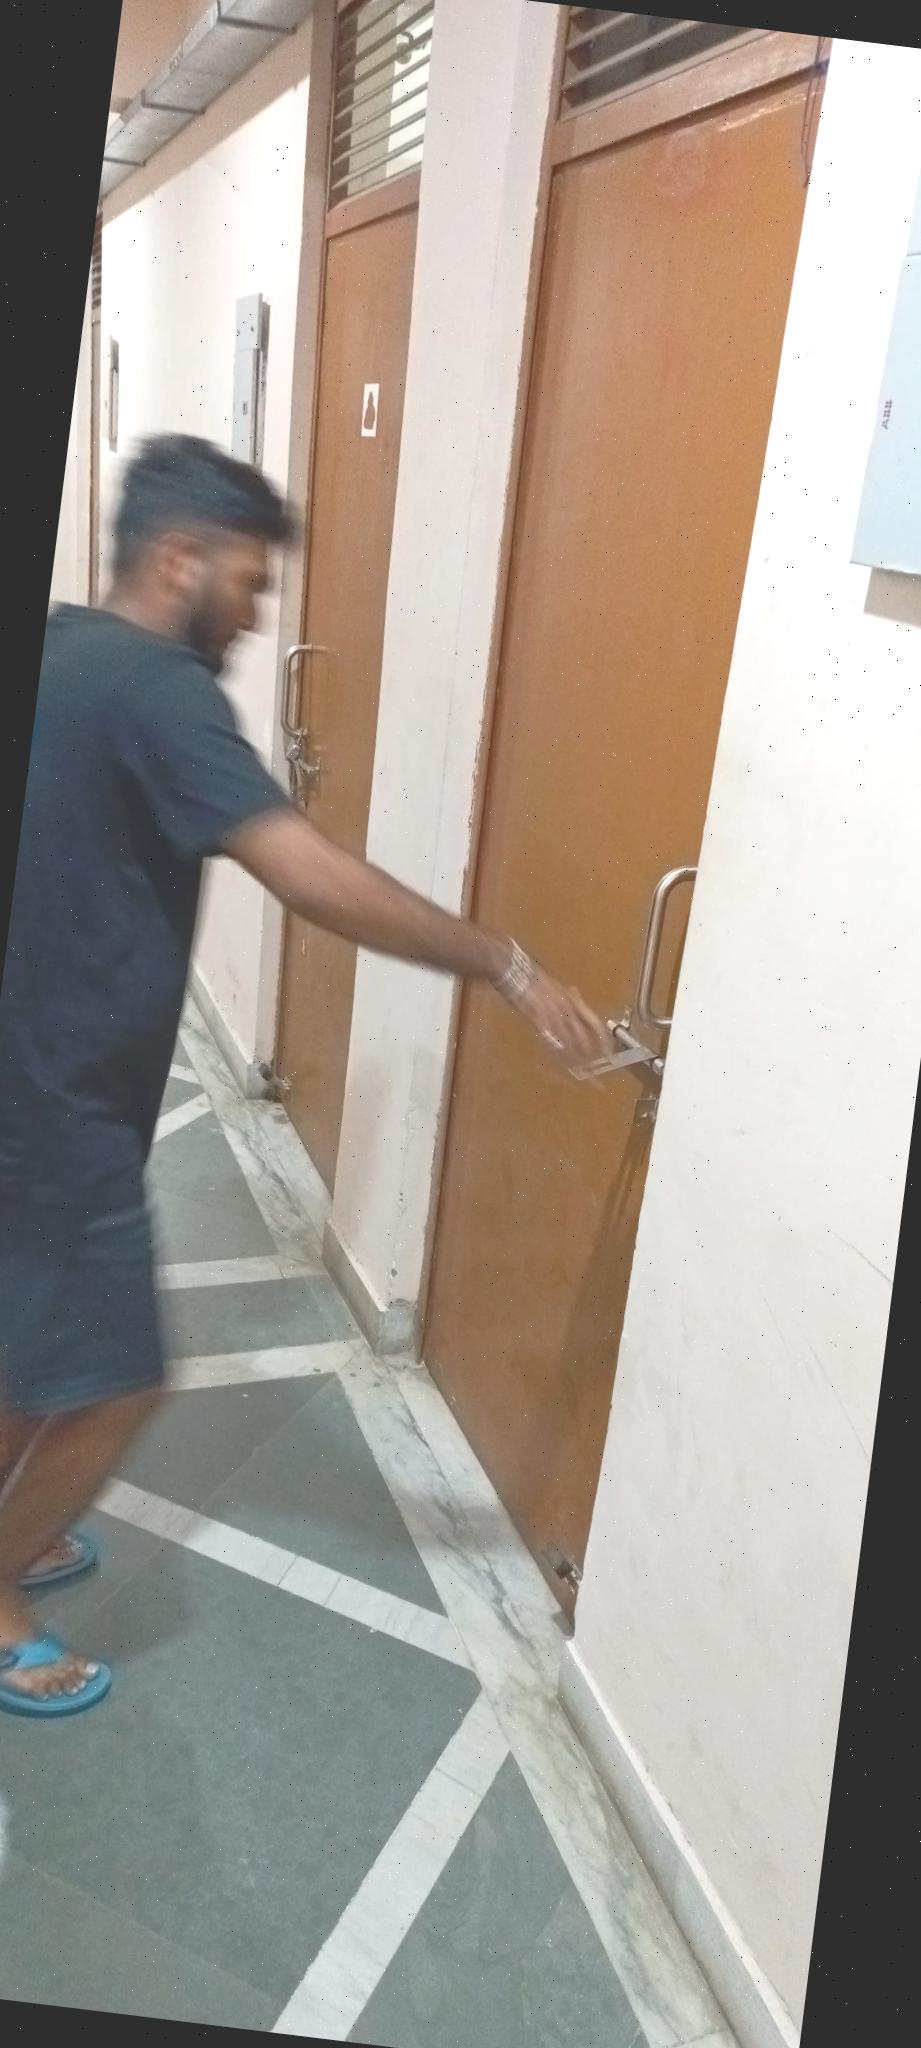suspicion: (0, 340, 721, 1887), (0, 435, 763, 1829)
